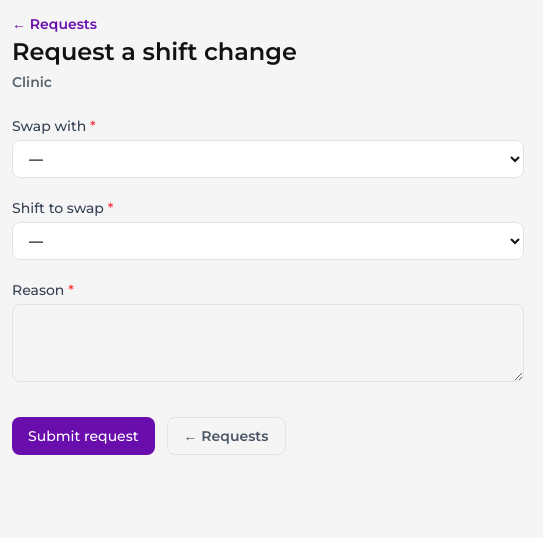
Test: NewRequestPage › shows an error banner when createScheduleChangeRequest rejects
Expected: the heading "Request a shift change" is shown, [12,37,297,66]
Select "Bob" in the dropdown labelled "Swap with *" at (268, 159), box [12,140,524,178]
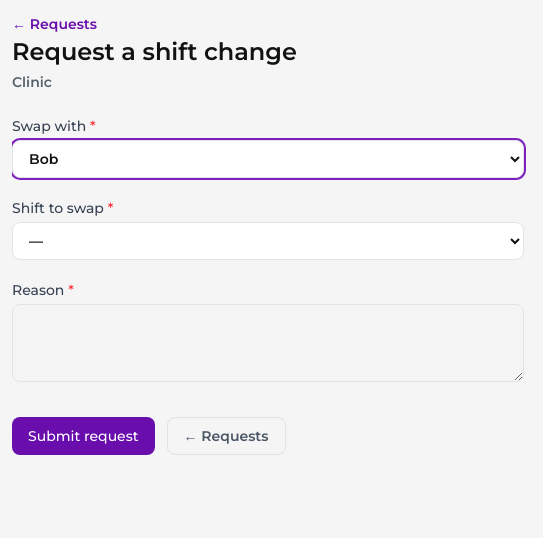
Select "Sun 2026-05-03 · morning" in the dropdown labelled "Shift to swap *" at (268, 241), box [12,222,524,260]
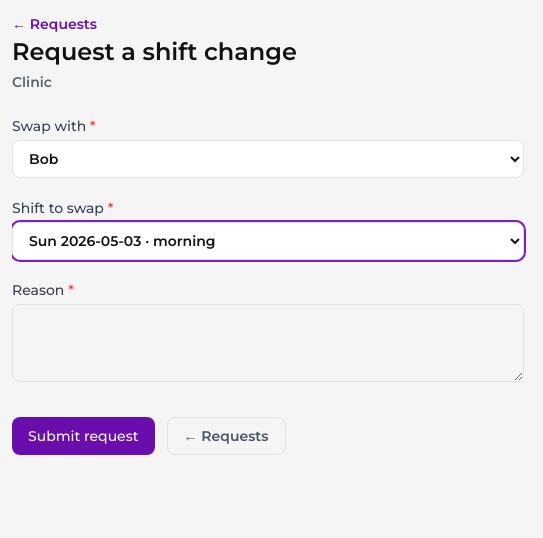
Type "reason text" into the text box at (268, 343), box [12,304,524,382]
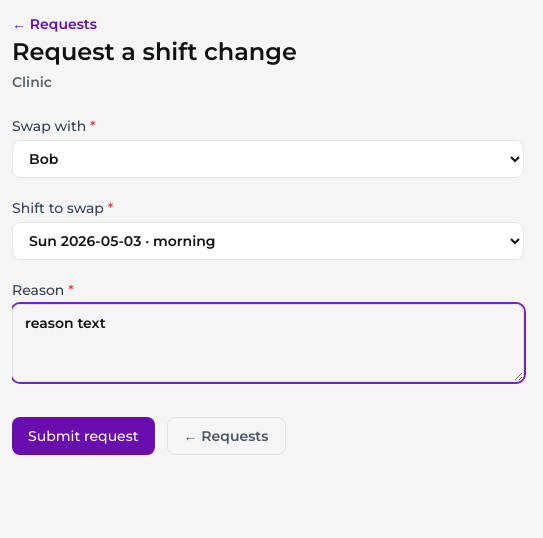
Click the button "Submit request" at (83, 436), box [12,417,154,455]
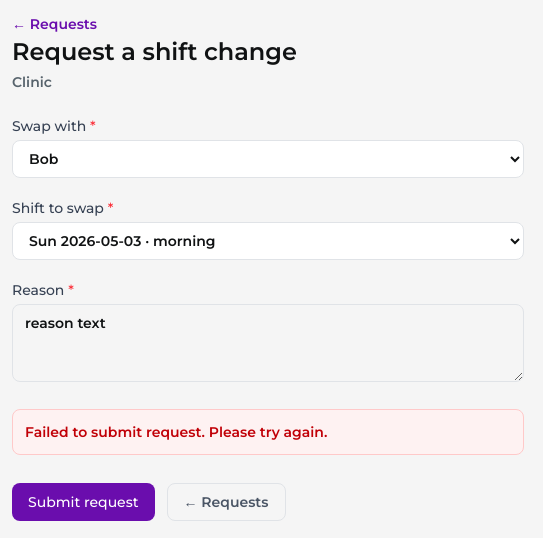
Expected: the text "Failed to submit request. Please try again." is shown, [12,409,524,455]
